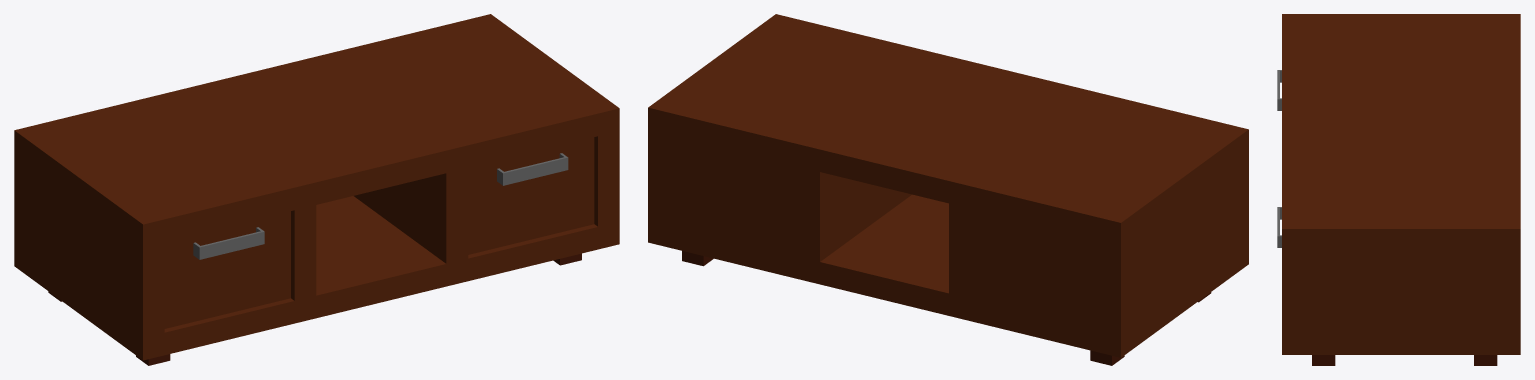
The picture shows the model from 3 angles, left to right: view 1: azimuth 30°, elevation 25°; view 2: azimuth 150°, elevation 25°; view 3: azimuth 270°, elevation 25°; orthographic projection. The views are drawn at different scales.
Parts seen in each view (by area): view 1: console; view 2: console; view 3: console.
Part boxes in pixels (left/top/right/bottom): console: left=14, top=14, right=619, bottom=365; console: left=648, top=14, right=1248, bottom=365; console: left=1277, top=14, right=1520, bottom=365.
Size of the model in its own units: 1.2 by 0.3814 by 0.573.
